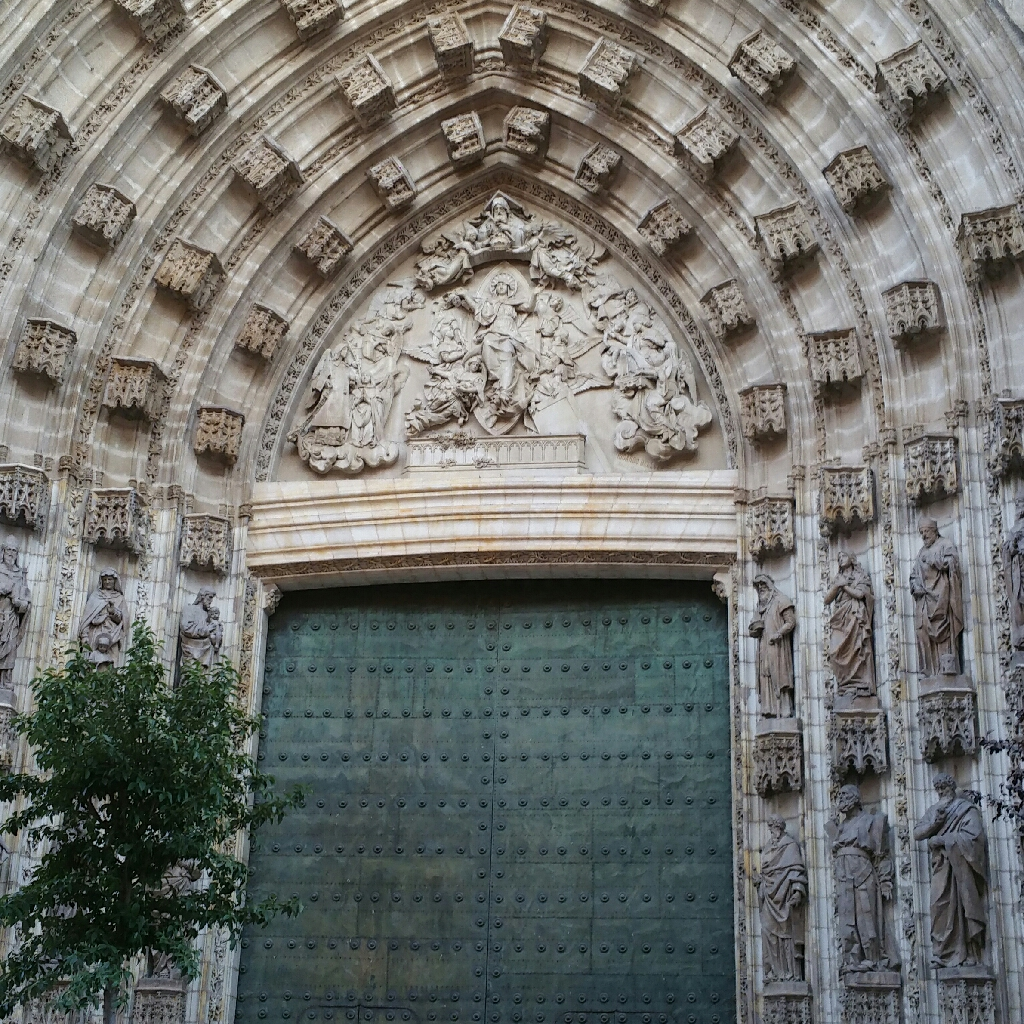arco-apuntado: (177, 58, 805, 466)
